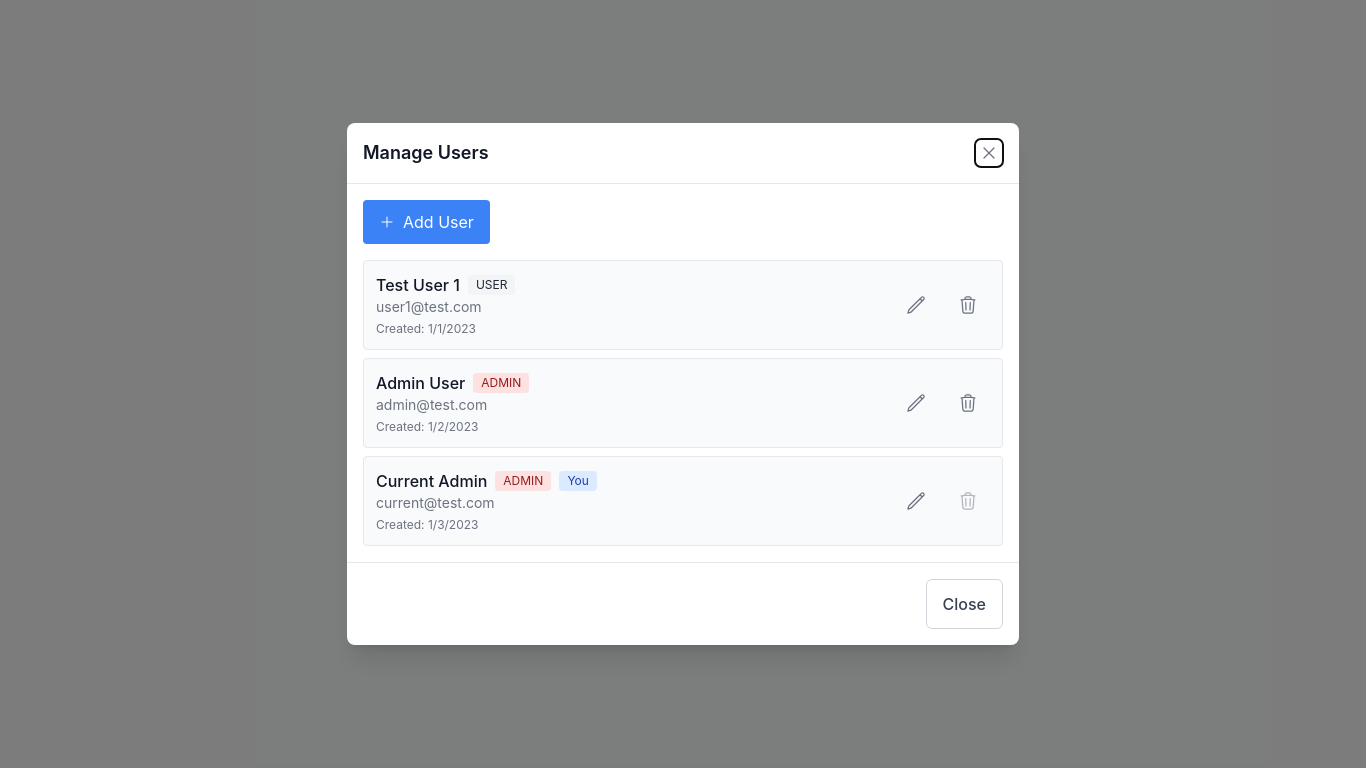
Test: UserManagementModal › user editing › cancels editing
Expected: the text "Test User 1" is shown, [376,273,460,297]
Click the button titled "Edit user" in the row of "user1@test.com" at (916, 305), box [894,283,938,327]
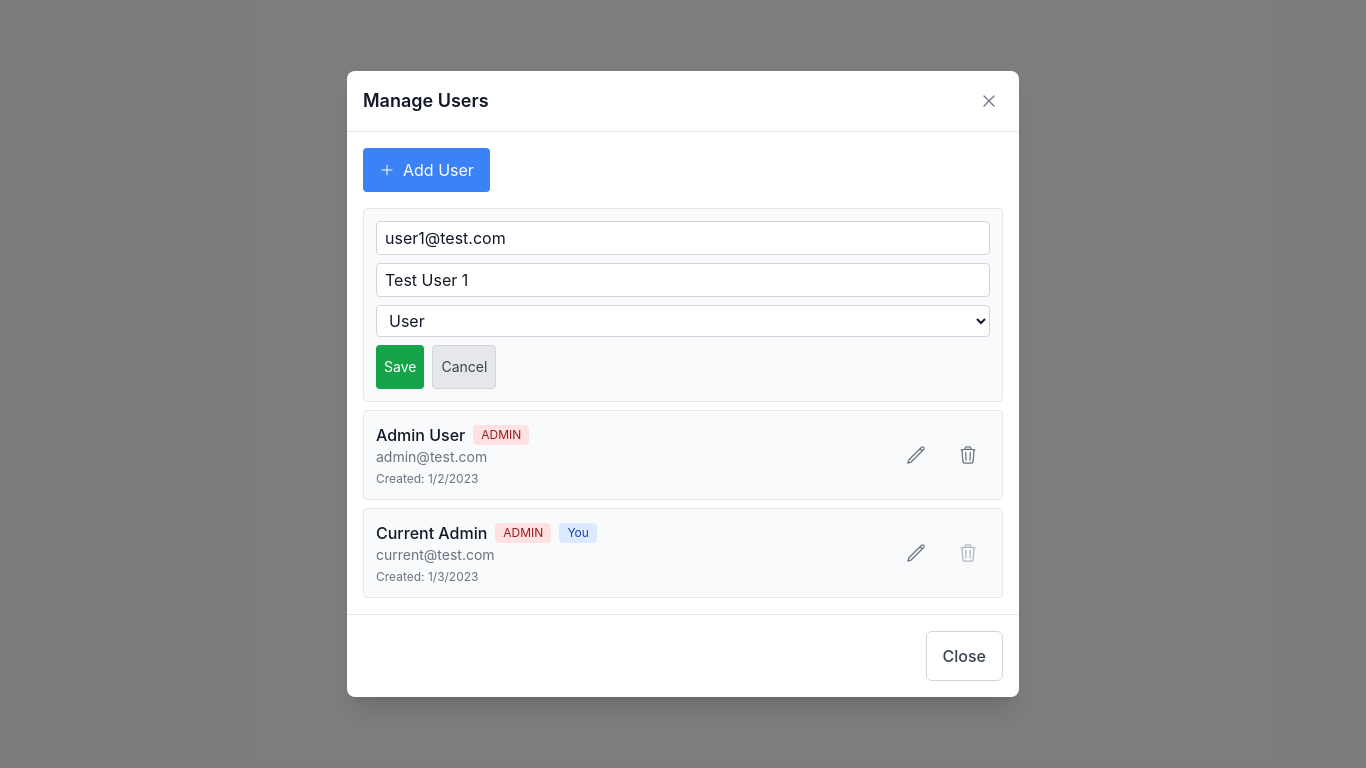
# Find the cancel button in the edit form
Click the button "Cancel" at (464, 367), box [432,345,496,389]
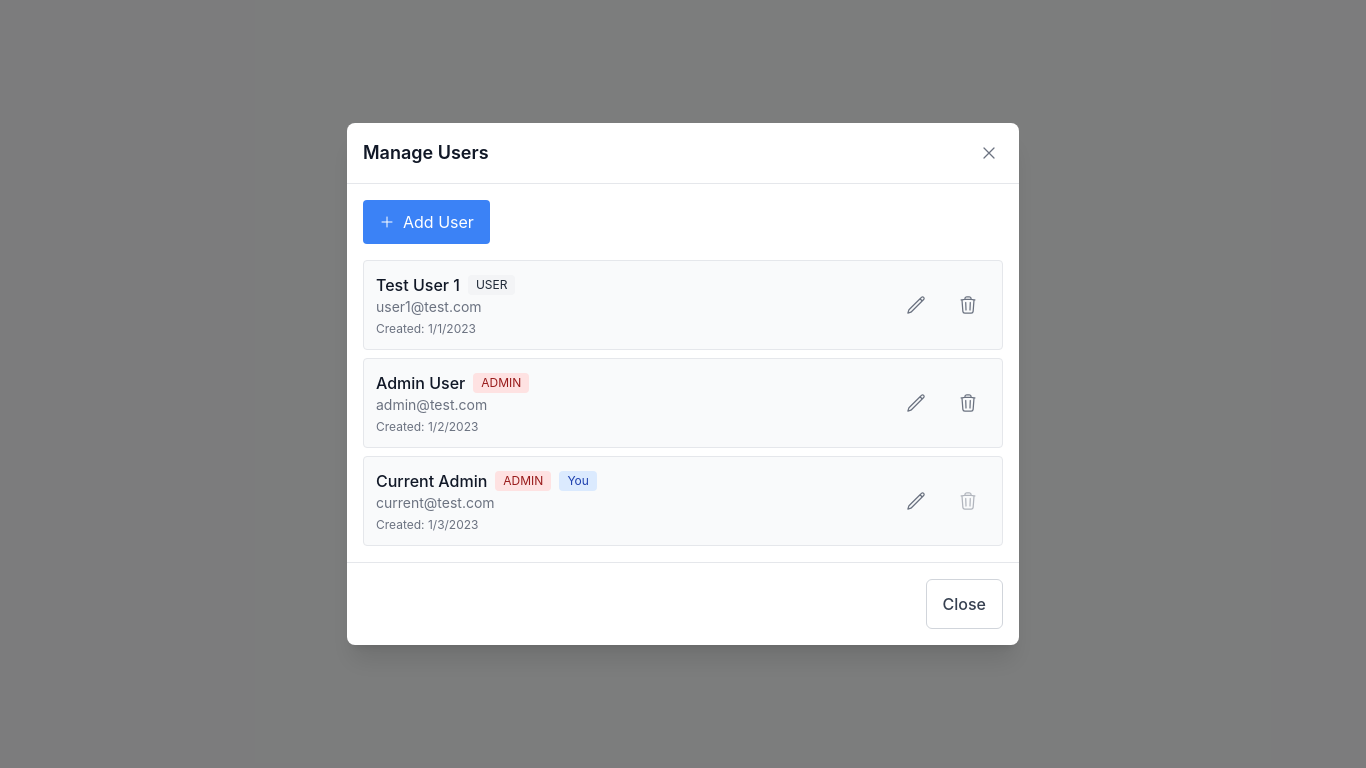
Expected: the text "Test User 1" is shown, [376,273,460,297]
